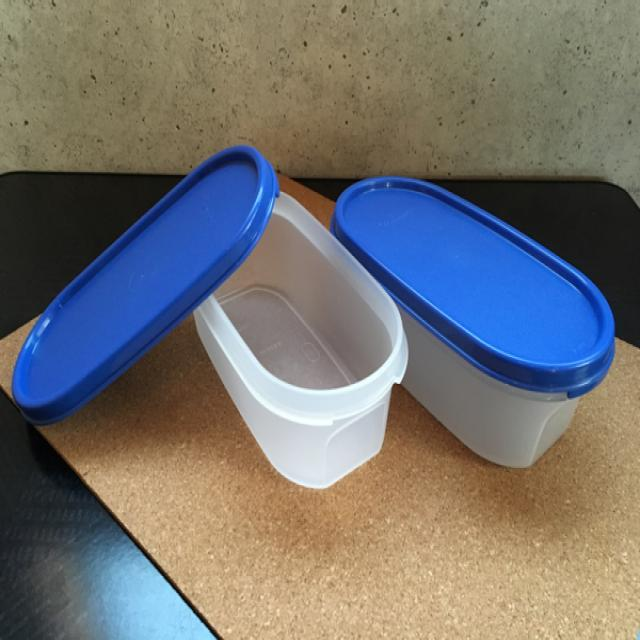plastic: (9, 147, 617, 488)
